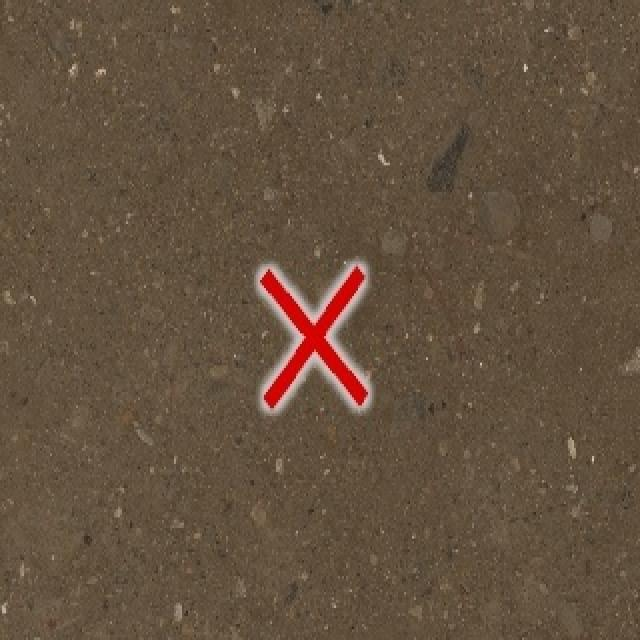x_marker: (259, 265, 367, 407)
